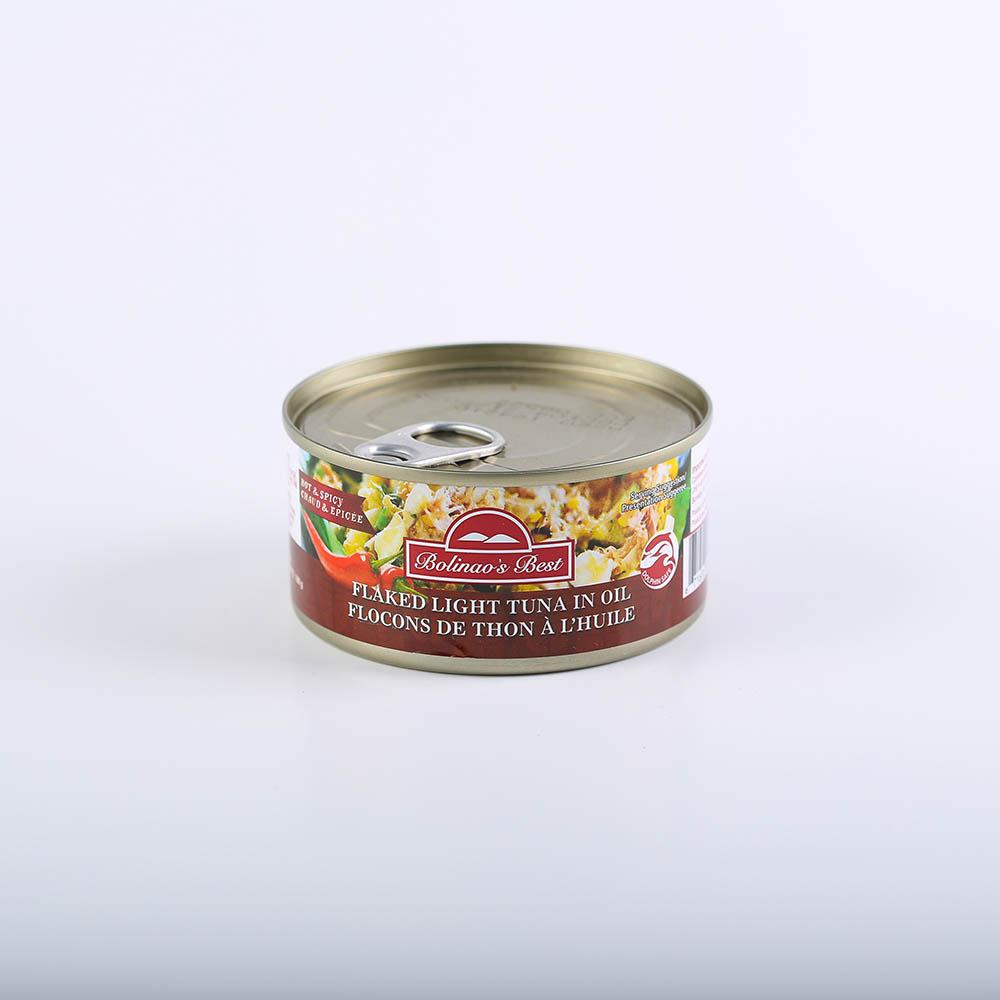metal: (283, 344, 713, 674)
